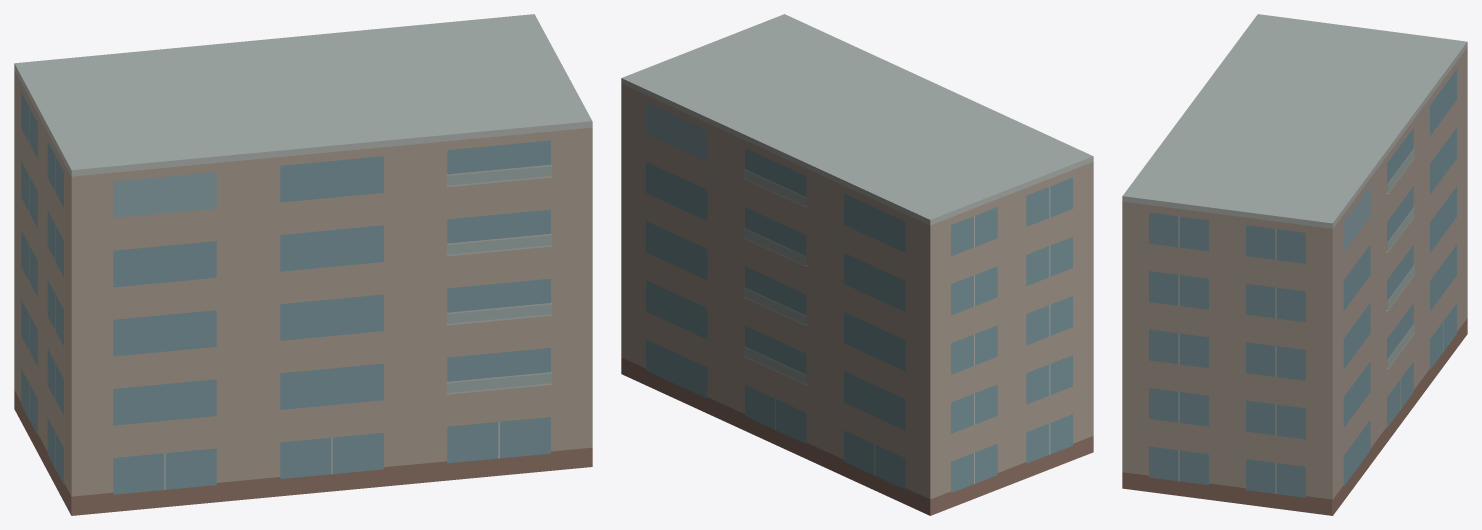
File: survey-upis-32871849.glb
The picture shows the model from 3 angles, left to right: view 1: azimuth 30°, elevation 25°; view 2: azimuth 150°, elevation 25°; view 3: azimuth 270°, elevation 25°; orthographic projection. The views are drawn at different scales.
Visible parts, largest first — view 1: survey-upis-32871849.tmp; view 2: survey-upis-32871849.tmp; view 3: survey-upis-32871849.tmp.
Part boxes in pixels (x1,y1,x2,y2): survey-upis-32871849.tmp: (14,14,592,515); survey-upis-32871849.tmp: (621,14,1093,515); survey-upis-32871849.tmp: (1122,14,1467,515).
Size of the model in its own units: 20.29 by 13.2 by 14.13.
